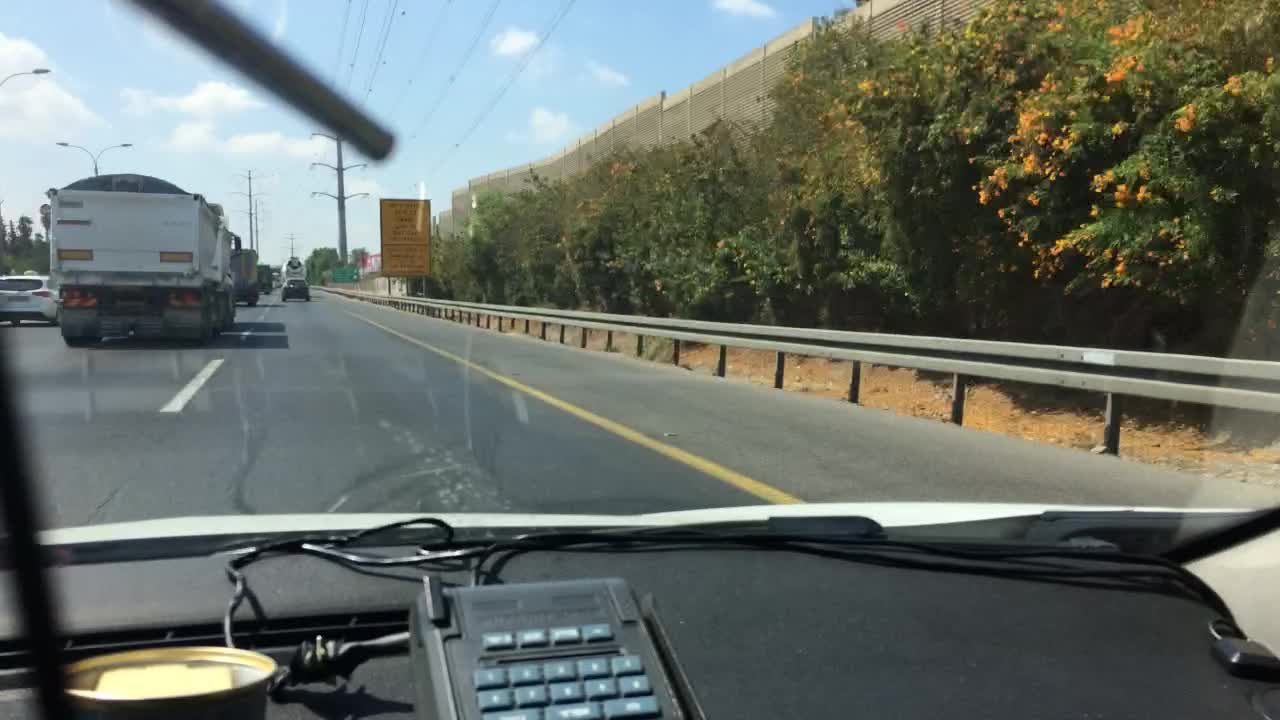car: (0, 272, 62, 328), (280, 278, 311, 302)
traffic sign: (379, 199, 432, 274), (330, 266, 359, 281)
truck: (47, 173, 241, 347), (228, 245, 260, 307), (279, 255, 306, 284), (255, 262, 273, 296)
